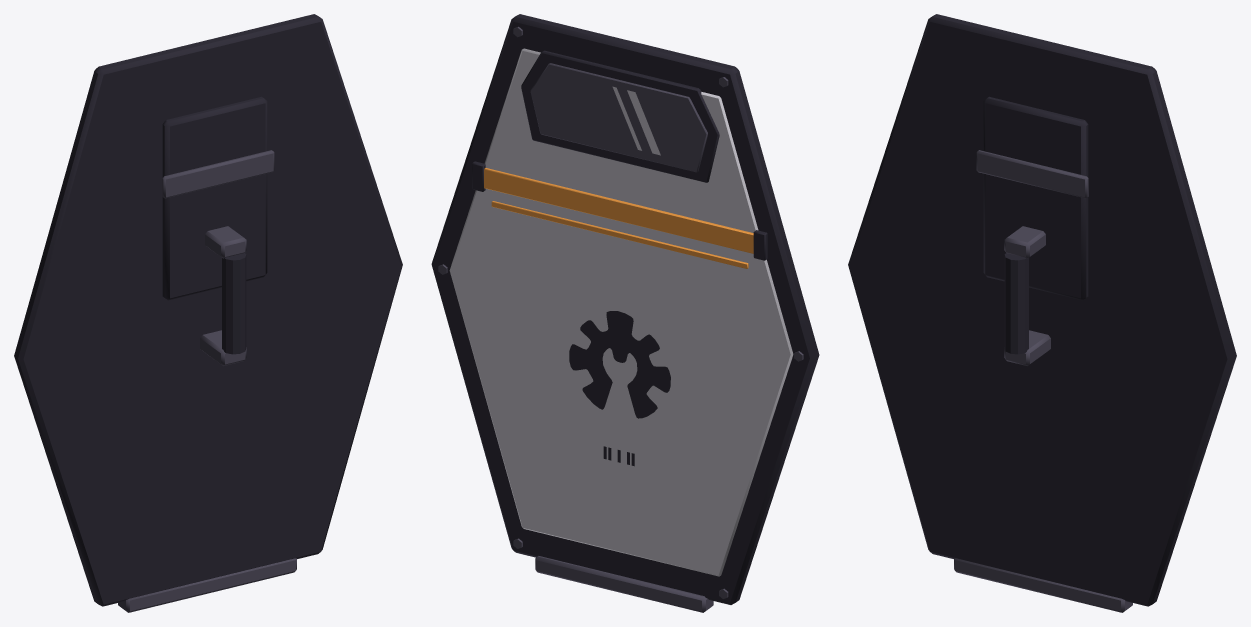
Rendered from r41_riot_shield.glb.
The picture shows the model from 3 angles, left to right: view 1: azimuth 30°, elevation 25°; view 2: azimuth 150°, elevation 25°; view 3: azimuth 330°, elevation 25°; orthographic projection.
Parts seen in each view (by area): view 1: r41_riot_shield_shell, r41_riot_shield_metal; view 2: r41_riot_shield_light, r41_riot_shield_shell, r41_riot_shield_metal, r41_riot_shield_amber, r41_riot_shield_decals; view 3: r41_riot_shield_shell, r41_riot_shield_metal.
Part boxes in pixels (box(x1,y1,x2,y2)): r41_riot_shield_shell: box(14, 14, 402, 606); r41_riot_shield_metal: box(118, 150, 296, 612); r41_riot_shield_light: box(449, 48, 793, 576); r41_riot_shield_shell: box(431, 14, 819, 604); r41_riot_shield_metal: box(438, 26, 803, 612); r41_riot_shield_amber: box(484, 168, 753, 268); r41_riot_shield_decals: box(569, 86, 670, 466); r41_riot_shield_shell: box(848, 14, 1236, 606); r41_riot_shield_metal: box(954, 150, 1132, 612).
Size of the model in its own units: 0.45 by 0.613 by 0.079.
